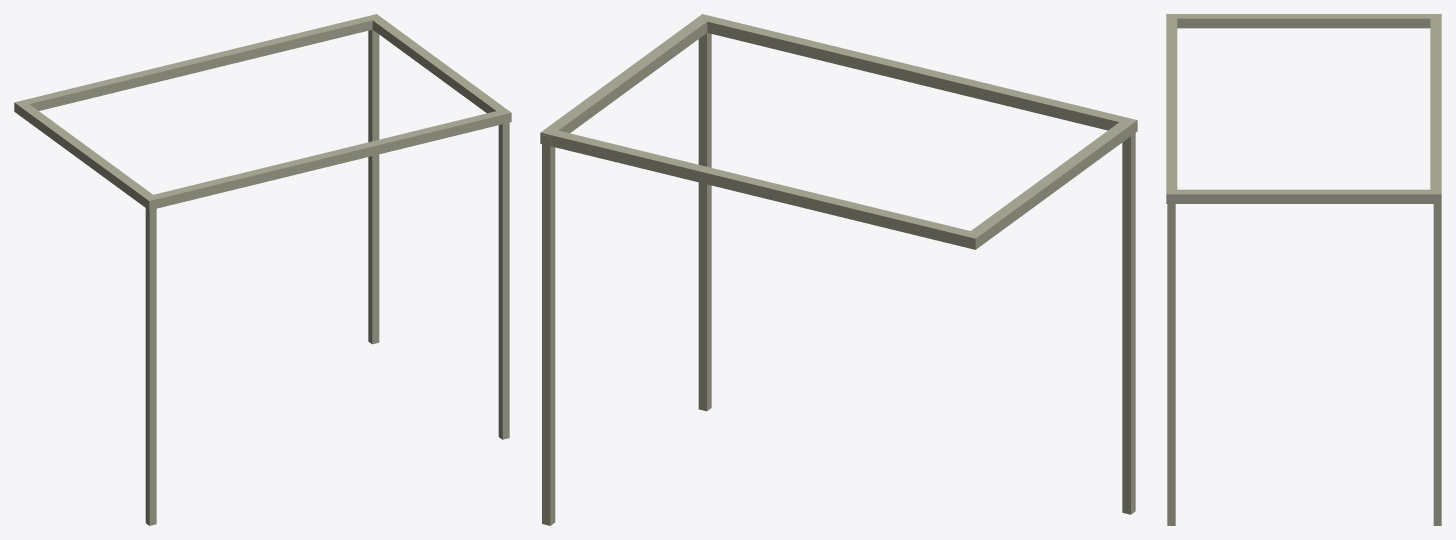
Rendered from BathtubTopV2.fbx.
The picture shows the model from 3 angles, left to right: view 1: azimuth 30°, elevation 25°; view 2: azimuth 150°, elevation 25°; view 3: azimuth 270°, elevation 25°; orthographic projection. The views are drawn at different scales.
Visible parts, largest first — view 1: Top; view 2: Top; view 3: Top.
Boxes of the visible parts, <box> form: Top: <box>14,14,511,525</box>; Top: <box>540,14,1137,525</box>; Top: <box>1166,14,1441,525</box>.
Size of the model in its own units: 1499 by 2324 by 1994.
